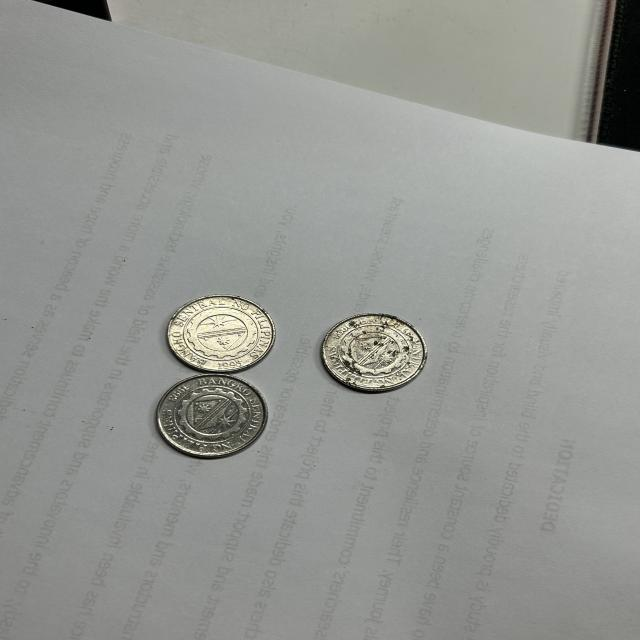1_Old_Back: (169, 385, 252, 446), (334, 322, 414, 382), (179, 306, 260, 361)
